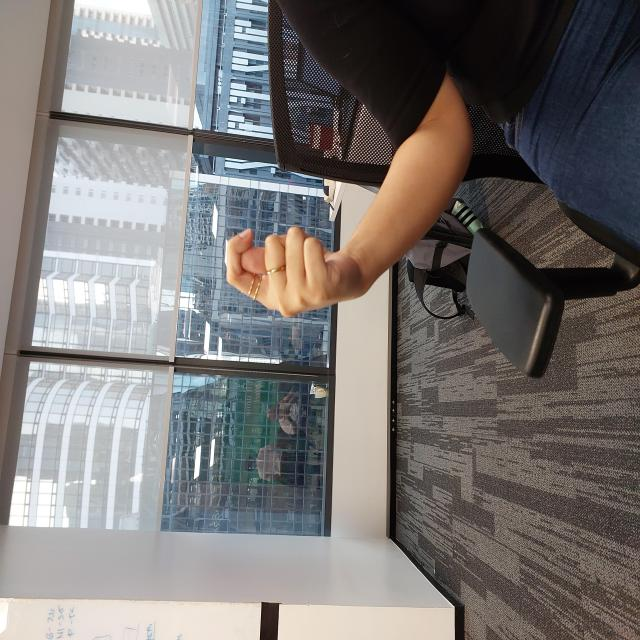T: (319, 222, 417, 364)
